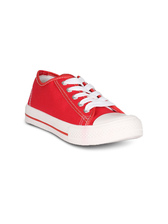shoes: (19, 66, 145, 149)
